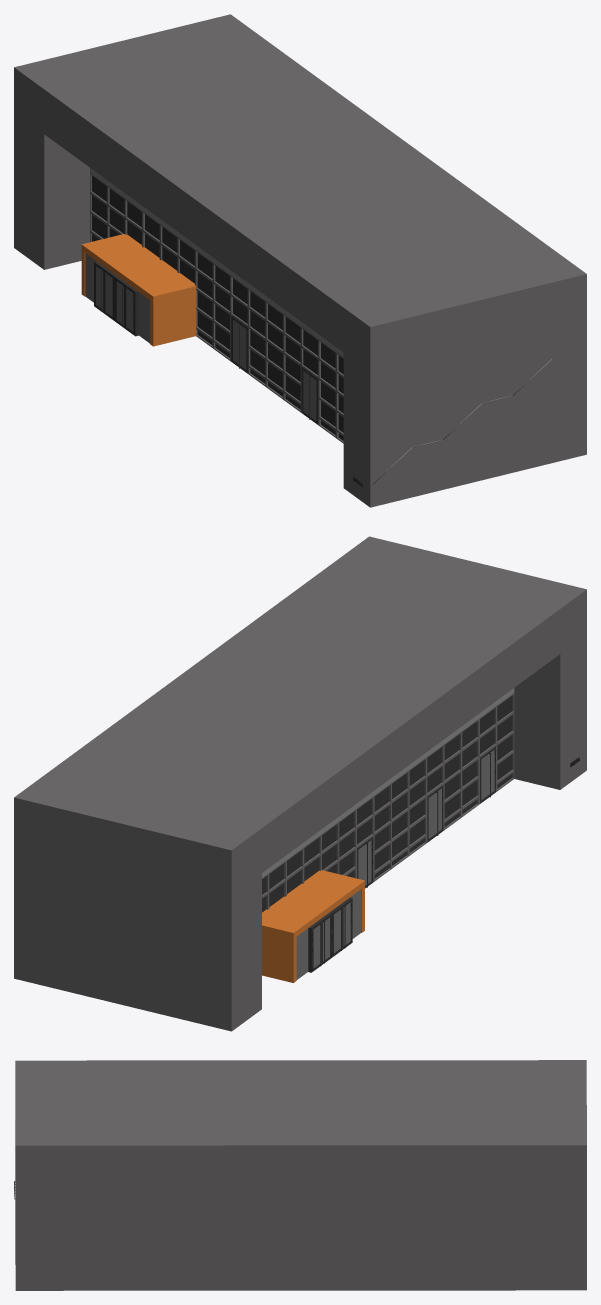
The model's file is MensaAnimation.glb.
3 renders of one model, top to bottom at view 1: azimuth 30°, elevation 25°; view 2: azimuth 150°, elevation 25°; view 3: azimuth 270°, elevation 25°, orthographic. The views are drawn at different scales.
Visible parts, largest first — view 1: Body; view 2: Body; view 3: Body.
Boxes of the visible parts, x1,y1,x2,y2 form: Body: [14, 14, 586, 507]; Body: [14, 536, 586, 1031]; Body: [14, 1060, 586, 1290].
Size of the model in its own units: 0.3527 by 0.278 by 0.9942.
